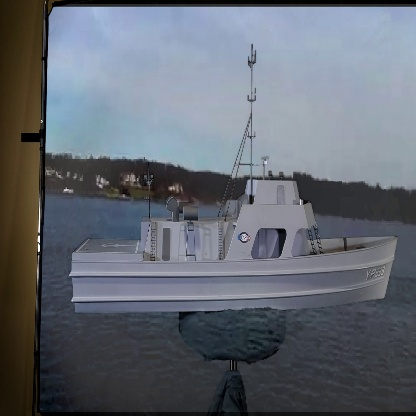YP689: (69, 41, 399, 314)
